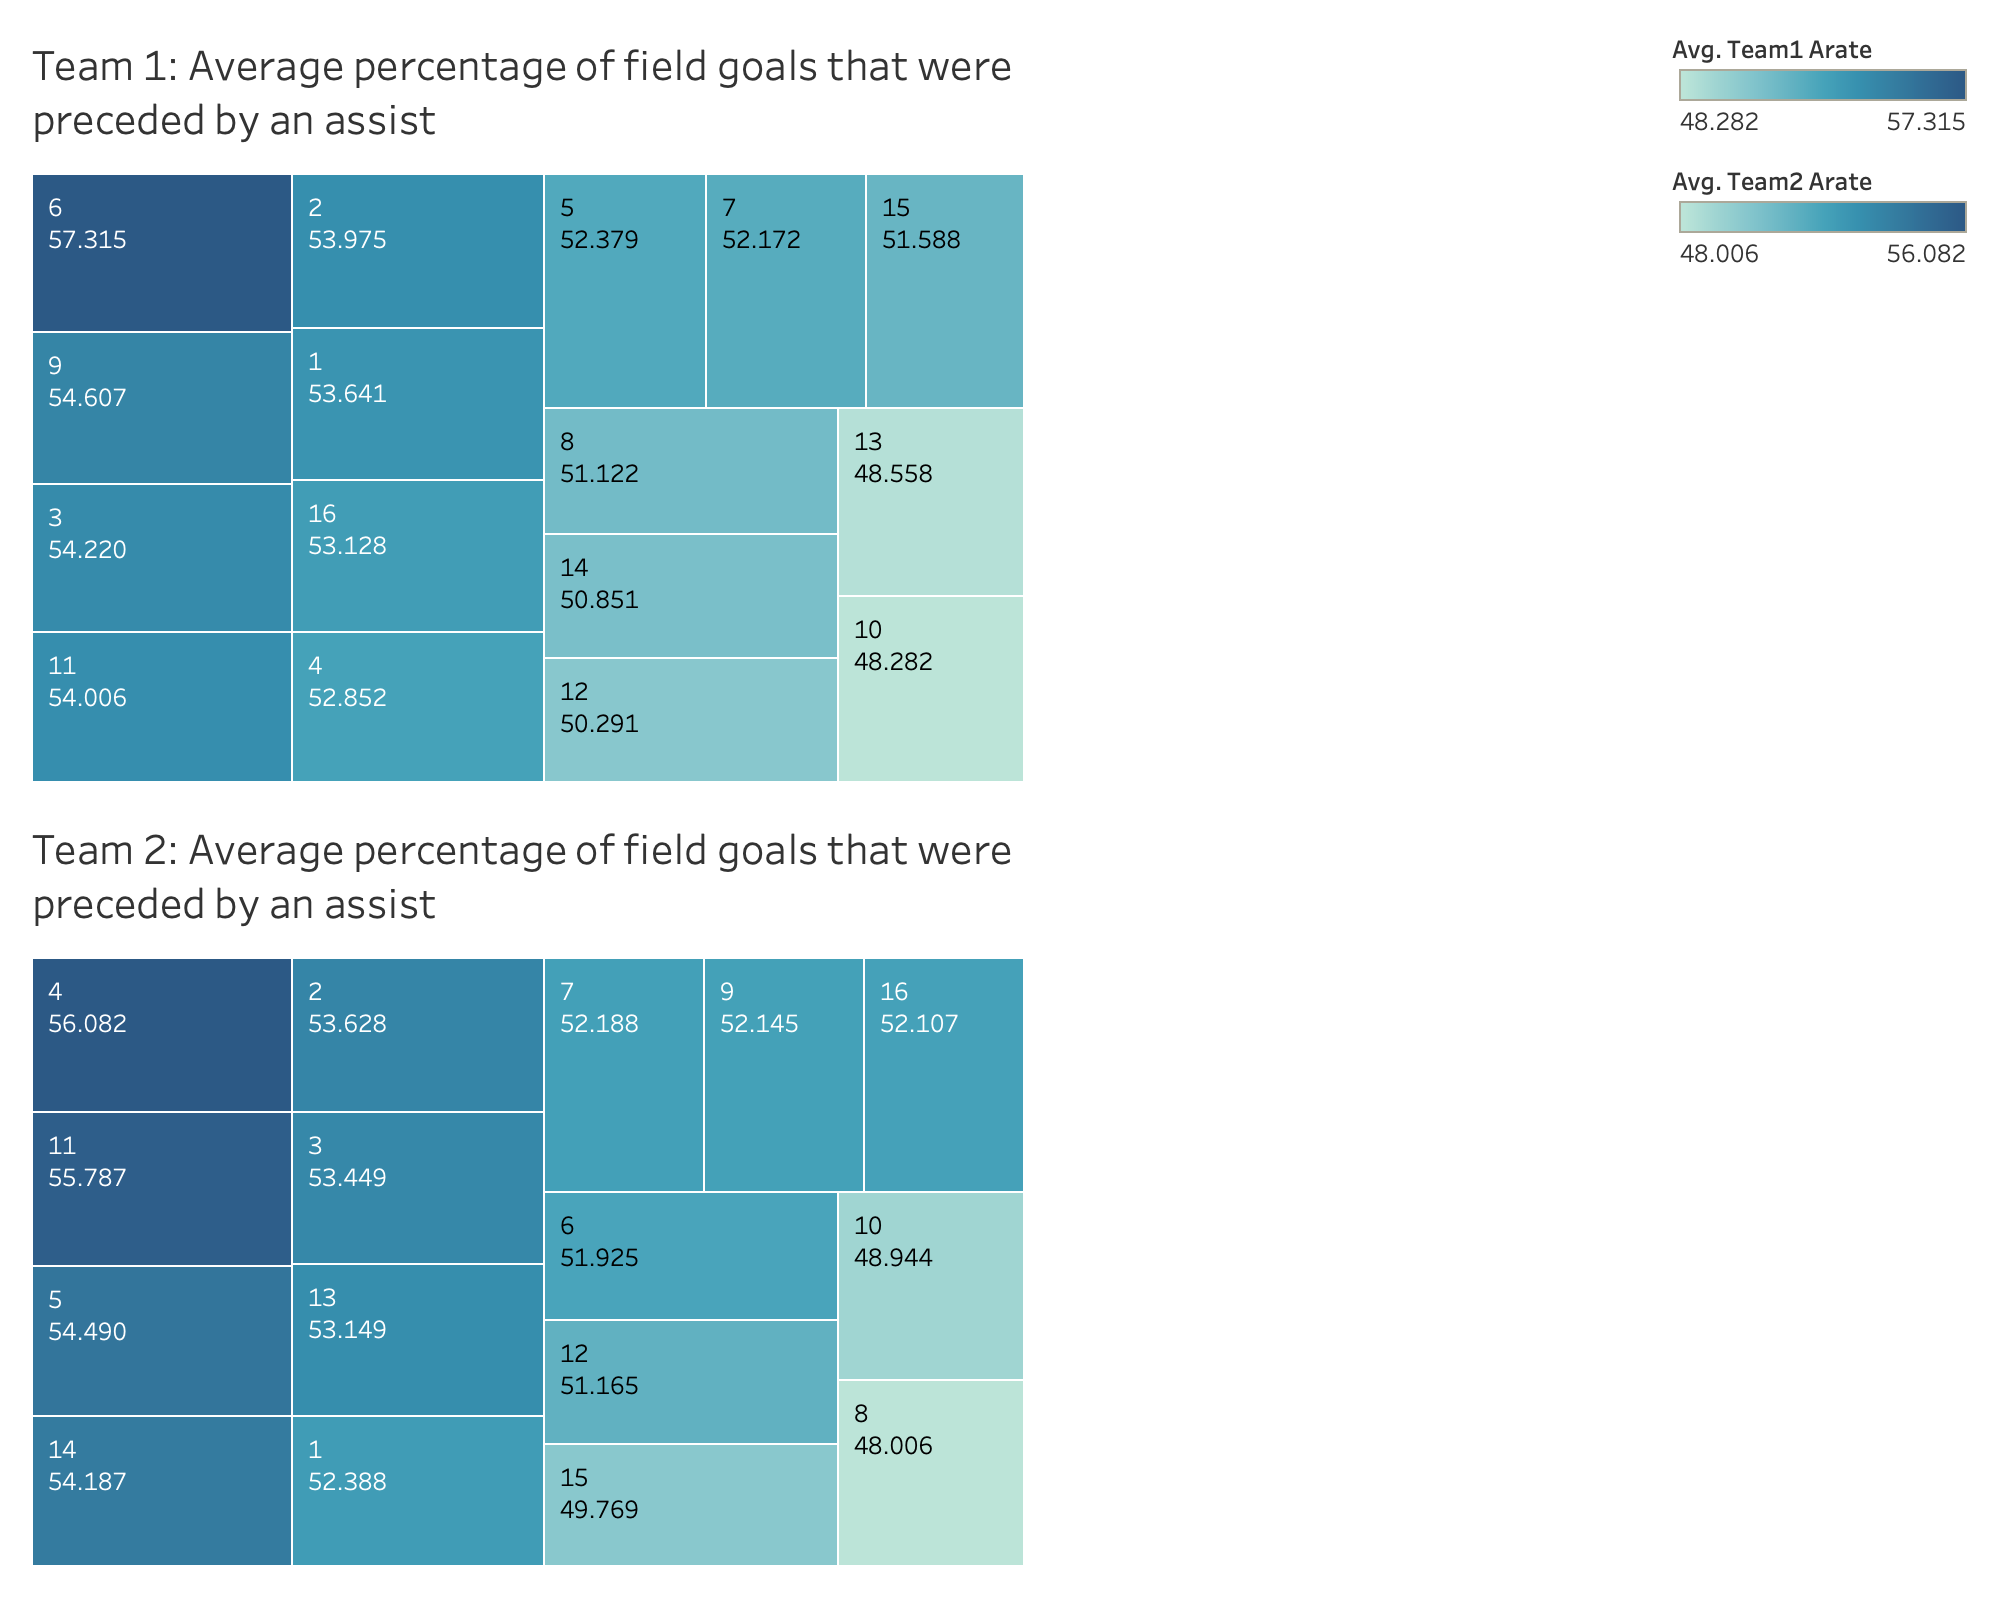

What the dashboard file says about the page in this screenshot:
{"tool":"tableau","page":{"name":"Dashboard 3","canvas":[1000,800],"ordinal":2},"visuals":[{"type":"worksheet","title":"Team 1: Average percentage of field goals that were preceded by an assist","mark":"Automatic","box":[8,8,584,392]},{"type":"legend","title":"Team 1: Average percentage of field goals that were preceded by an assist","param":"[federated.0c9l6jf134f6l412e56vp0xpq6or].[avg:team1_arate:qk]","box":[592,8,400,65]},{"type":"legend","title":"Team 2: Average percentage of field goals that were preceded by an assist","param":"[federated.0c9l6jf134f6l412e56vp0xpq6or].[avg:team2_arate:qk]","box":[592,73,400,65]},{"type":"worksheet","title":"Team 2: Average percentage of field goals that were preceded by an assist","mark":"Automatic","box":[8,400,584,392]}]}

Visuals, with their boxes in screenshot pixels (x1, y1, x2, y2), scaled from the page's 1000x800 canvas onto the 2000x1600 screenshot:
"Team 1: Average percentage of field goals that were preceded by an assist" worksheet: pyautogui.locateOnScreen(16, 16, 1184, 800)
"Team 1: Average percentage of field goals that were preceded by an assist" legend: pyautogui.locateOnScreen(1184, 16, 1984, 146)
"Team 2: Average percentage of field goals that were preceded by an assist" legend: pyautogui.locateOnScreen(1184, 146, 1984, 276)
"Team 2: Average percentage of field goals that were preceded by an assist" worksheet: pyautogui.locateOnScreen(16, 800, 1184, 1584)
